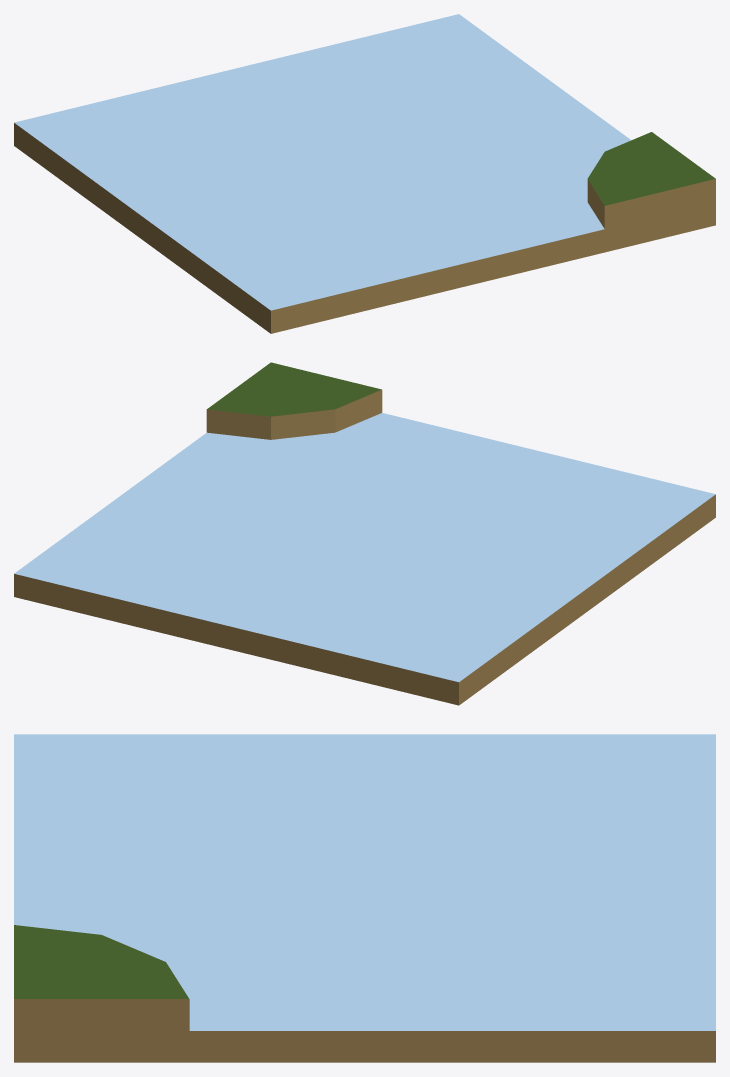
Rendered from Terrain_Modular_Tiles_Grass_Dirt_Water_Edge_Corner_Inner_01.fbx.
3 views of the same model, one above another, from view 1: azimuth 30°, elevation 25°; view 2: azimuth 150°, elevation 25°; view 3: azimuth 270°, elevation 25° (orthographic). The views are drawn at different scales.
Parts seen in each view (by area): view 1: Terrain_Modular_Tiles_Grass_Dirt_Water_Edge_Corner_Inner_01; view 2: Terrain_Modular_Tiles_Grass_Dirt_Water_Edge_Corner_Inner_01; view 3: Terrain_Modular_Tiles_Grass_Dirt_Water_Edge_Corner_Inner_01.
Boxes of the visible parts, left/top/right/bottom form: Terrain_Modular_Tiles_Grass_Dirt_Water_Edge_Corner_Inner_01: left=14, top=14, right=715, bottom=333; Terrain_Modular_Tiles_Grass_Dirt_Water_Edge_Corner_Inner_01: left=14, top=362, right=715, bottom=705; Terrain_Modular_Tiles_Grass_Dirt_Water_Edge_Corner_Inner_01: left=14, top=734, right=715, bottom=1062.
Size of the model in its own units: 118 by 11.81 by 118.
